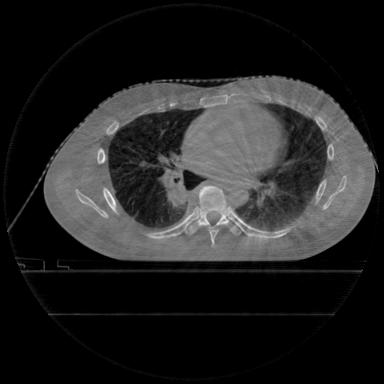body: (48, 76, 374, 262)
cord: (148, 186, 292, 245)
paru kanan: (109, 109, 202, 227)
paru kiri: (235, 102, 328, 228)
